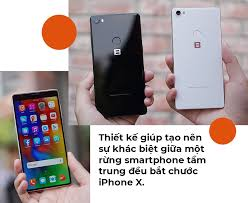bphone: (89, 9, 149, 117), (168, 2, 228, 110)
